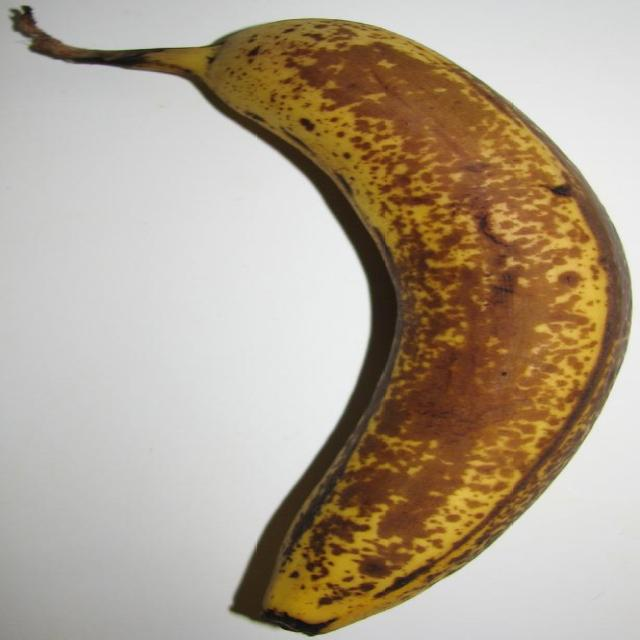banana: (9, 6, 632, 634)
